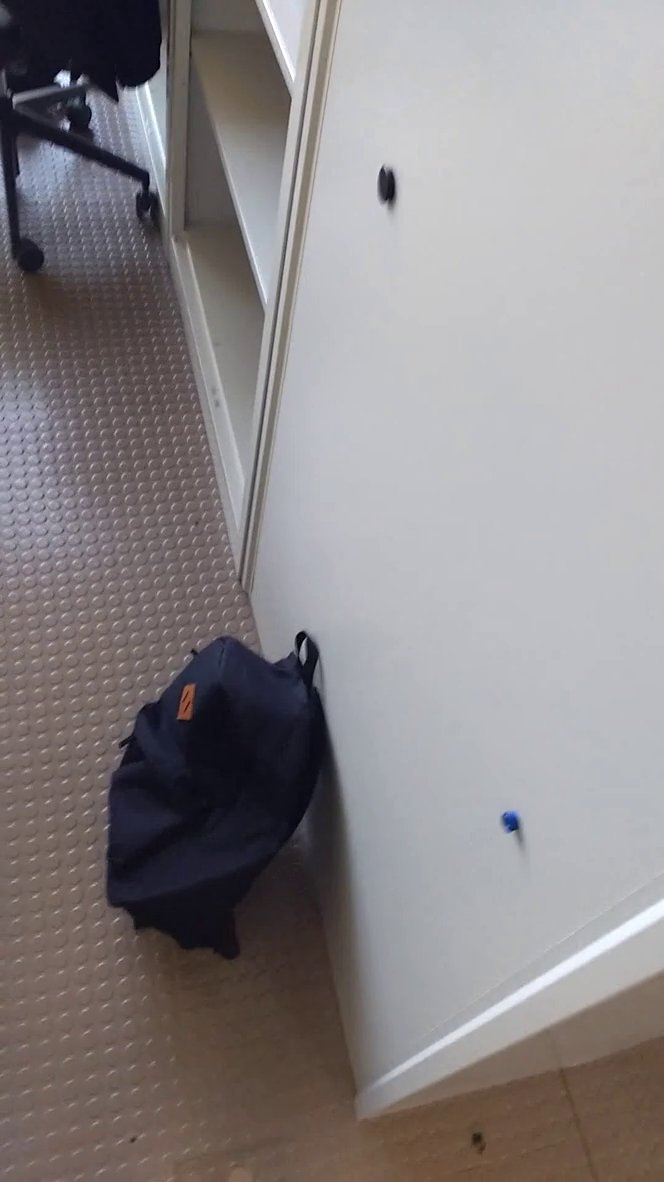bag: (81, 611, 342, 974)
